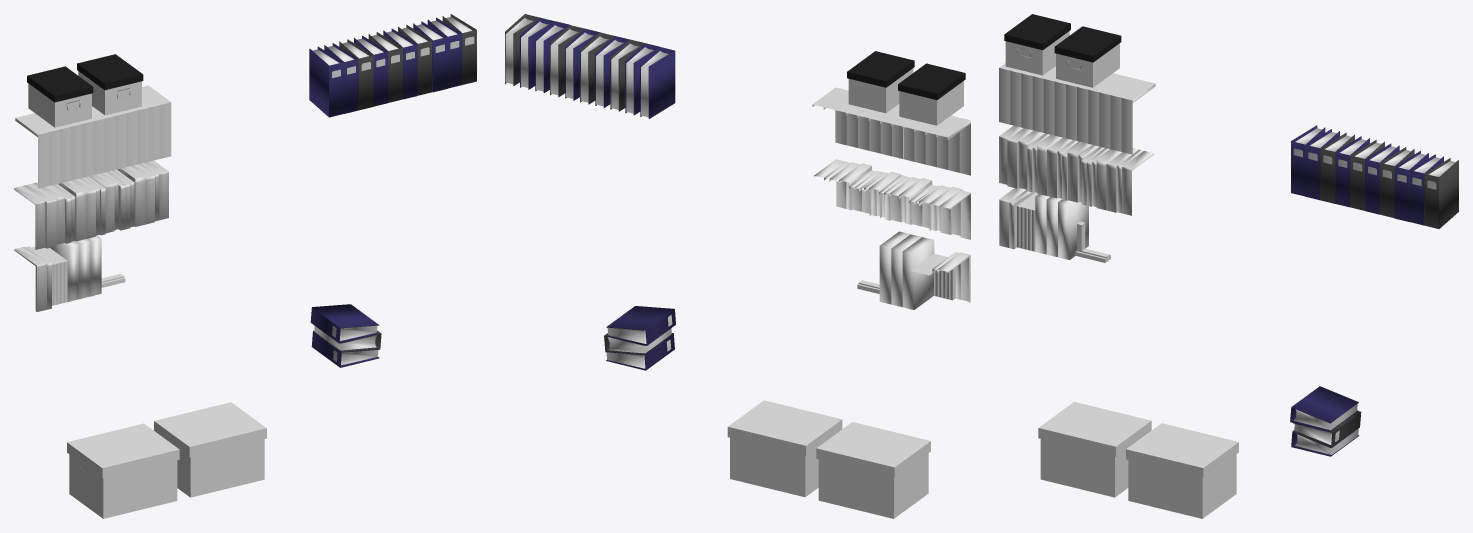
Rendered from book.fbx.
The picture shows the model from 3 angles, left to right: view 1: azimuth 30°, elevation 25°; view 2: azimuth 150°, elevation 25°; view 3: azimuth 330°, elevation 25°; orthographic projection.
Parts seen in each view (by area): view 1: Cube.223, Cube.224, Cube.226, BookGroup_05.001, BookGroup_Ency_19-36.003, BookGroup_04.016, Book_WorldHist_1, Binder, Binder.010, BookGroup_Wiki.005, BookGroup_Ency_19-36.002, BookGroup_Ency_01-18.004 (+13 smaller); view 2: Cube.223, Cube.224, Cube.226, BookGroup_05.001, Book_WorldHist_1, BookGroup_Ency_19-36.003, BookGroup_04.016, Binder, BookGroup_Wiki.005, Binder.010, Binder.007, Binder.003 (+13 smaller); view 3: Cube.224, Cube.223, Cube.226, BookGroup_05.001, BookGroup_Ency_19-36.003, BookGroup_04.016, Book_WorldHist_1, Binder.005, Binder.010, BookGroup_Wiki.005, BookGroup_Ency_19-36.002, BookGroup_Ency_01-18.004 (+14 smaller).
Boxes of the visible parts, bbox=[...] form: Cube.223: bbox=[67, 423, 179, 518]; Cube.224: bbox=[154, 402, 266, 497]; Cube.226: bbox=[27, 54, 143, 127]; BookGroup_05.001: bbox=[14, 172, 125, 249]; BookGroup_Ency_19-36.003: bbox=[60, 107, 148, 183]; BookGroup_04.016: bbox=[107, 160, 168, 229]; Book_WorldHist_1: bbox=[50, 235, 101, 301]; Binder: bbox=[309, 46, 343, 117]; Binder.010: bbox=[310, 304, 379, 343]; BookGroup_Wiki.005: bbox=[15, 85, 170, 136]; BookGroup_Ency_19-36.002: bbox=[149, 102, 171, 161]; BookGroup_Ency_01-18.004: bbox=[38, 129, 60, 188]; Cube.223: bbox=[816, 422, 930, 518]; Cube.224: bbox=[727, 400, 842, 497]; Cube.226: bbox=[847, 51, 965, 125]; BookGroup_05.001: bbox=[859, 171, 970, 239]; Book_WorldHist_1: bbox=[879, 231, 934, 309]; BookGroup_Ency_19-36.003: bbox=[858, 116, 948, 169]; BookGroup_04.016: bbox=[814, 159, 882, 217]; Binder: bbox=[640, 47, 675, 118]; BookGroup_Wiki.005: bbox=[812, 87, 970, 139]; Binder.010: bbox=[606, 306, 675, 345]; Binder.007: bbox=[550, 25, 584, 97]; Binder.003: bbox=[595, 36, 629, 107]; Cube.224: bbox=[1126, 423, 1238, 518]; Cube.223: bbox=[1038, 401, 1151, 497]; Cube.226: bbox=[1004, 14, 1121, 87]; BookGroup_05.001: bbox=[999, 125, 1104, 205]; BookGroup_Ency_19-36.003: bbox=[1021, 73, 1110, 148]; BookGroup_04.016: bbox=[1086, 148, 1153, 215]; Book_WorldHist_1: bbox=[1035, 194, 1088, 259]; Binder.005: bbox=[1424, 158, 1458, 228]; Binder.010: bbox=[1290, 386, 1358, 431]; BookGroup_Wiki.005: bbox=[999, 63, 1155, 102]; BookGroup_Ency_19-36.002: bbox=[1110, 95, 1132, 154]; BookGroup_Ency_01-18.004: bbox=[999, 68, 1021, 127].
Size of the model in its own units: 227 by 211 by 34.57.
